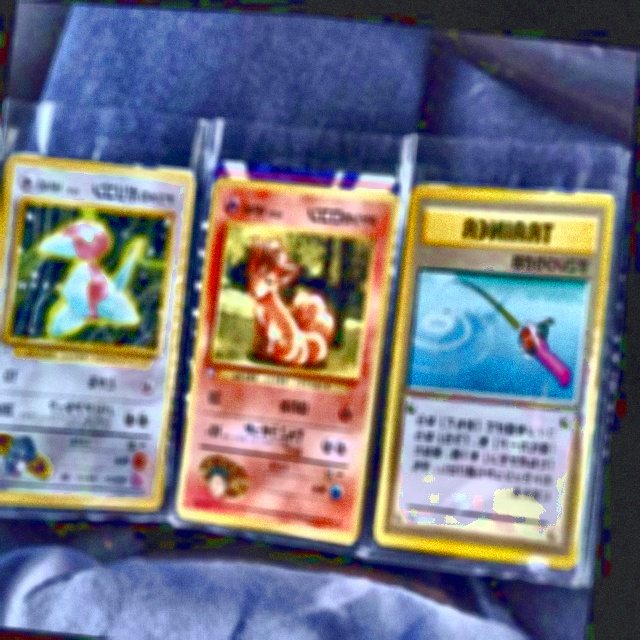card: (378, 178, 618, 562), (180, 171, 404, 540), (0, 152, 197, 508)
